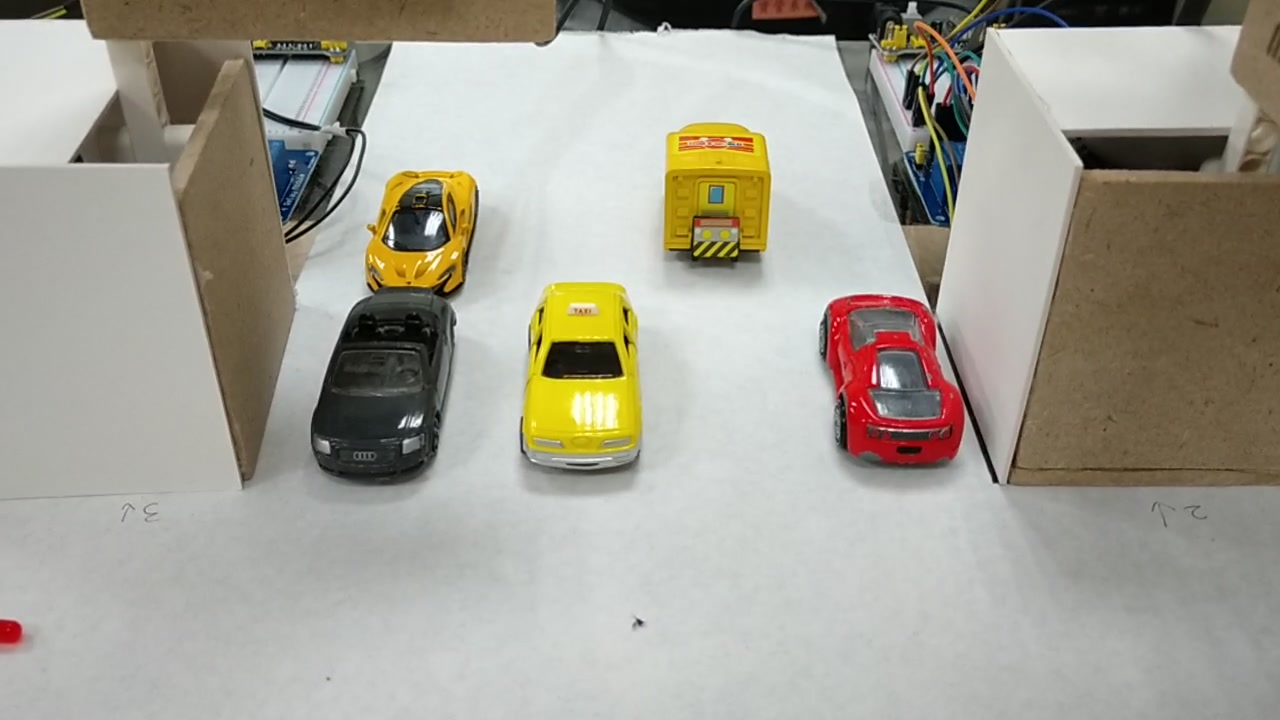car: (812, 295, 966, 466), (311, 286, 450, 469), (519, 284, 644, 472), (361, 176, 477, 292)
